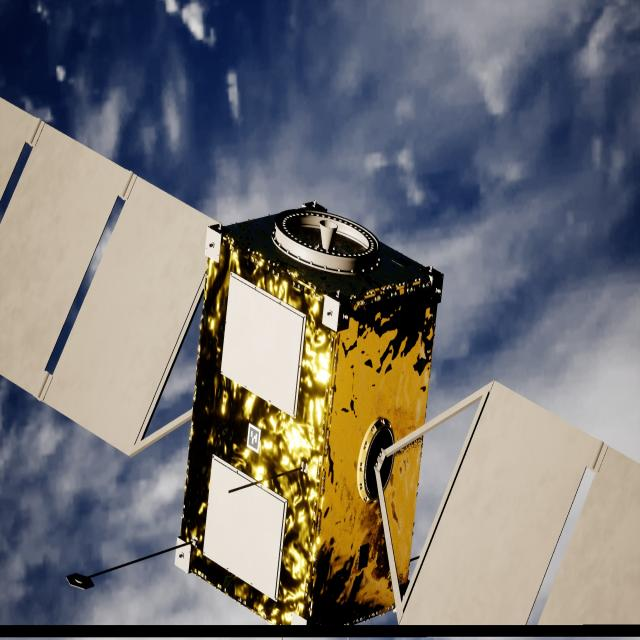medium_debris: (0, 98, 640, 629)
